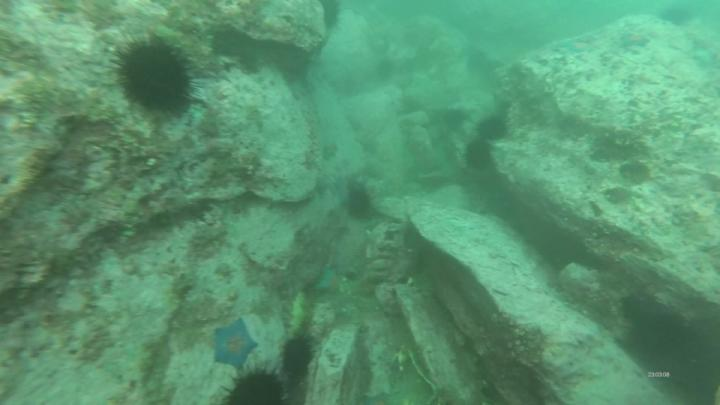echinus: (114, 47, 191, 115), (228, 373, 285, 405), (284, 339, 315, 376), (348, 185, 370, 219), (468, 144, 492, 172), (662, 8, 694, 25), (478, 120, 505, 139), (445, 110, 463, 125)
holothurian: (288, 294, 311, 342)
starfish: (215, 319, 259, 367), (316, 267, 340, 293), (622, 33, 651, 50), (564, 39, 594, 53)
